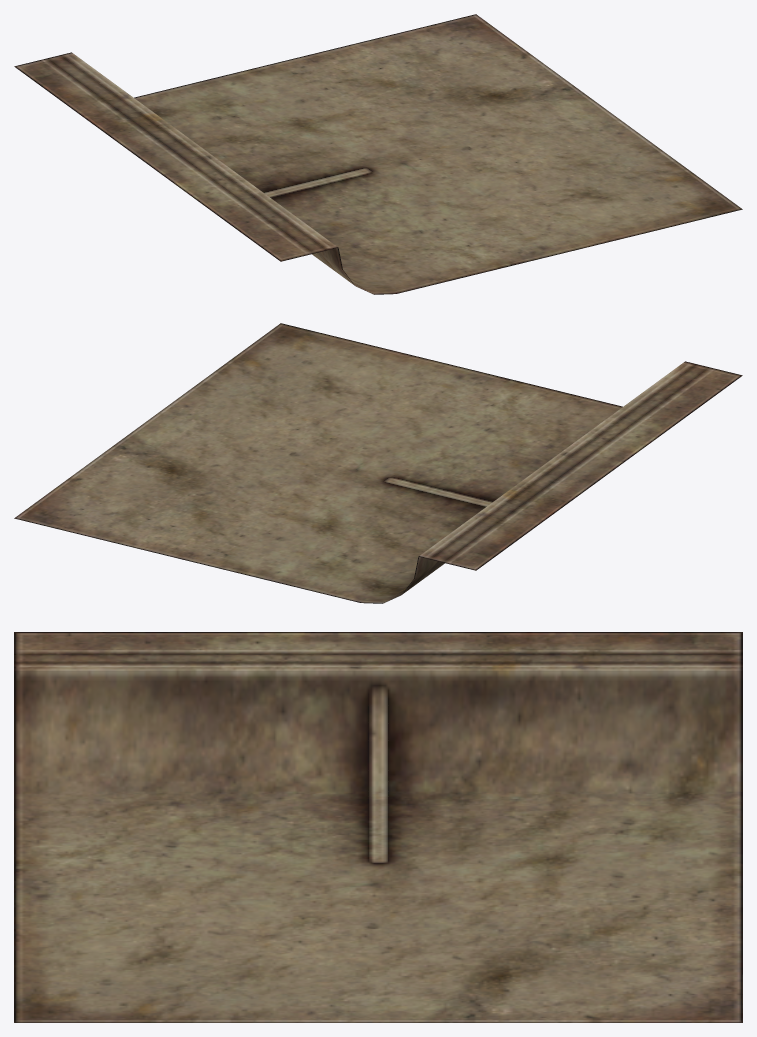
File: pplant_ground_edge_straight_sunk.dae
3 views of the same model, one above another, from view 1: azimuth 30°, elevation 25°; view 2: azimuth 150°, elevation 25°; view 3: azimuth 270°, elevation 25° (orthographic). The views are drawn at different scales.
Visible parts, largest first — view 1: edge_straight_sunk; view 2: edge_straight_sunk; view 3: edge_straight_sunk.
Part boxes in pixels (bbox=[...]): edge_straight_sunk: bbox=[14, 14, 742, 294]; edge_straight_sunk: bbox=[14, 323, 742, 603]; edge_straight_sunk: bbox=[14, 632, 742, 1022].
Bounding box in the file's own units: 2 × 0.25 × 2.
